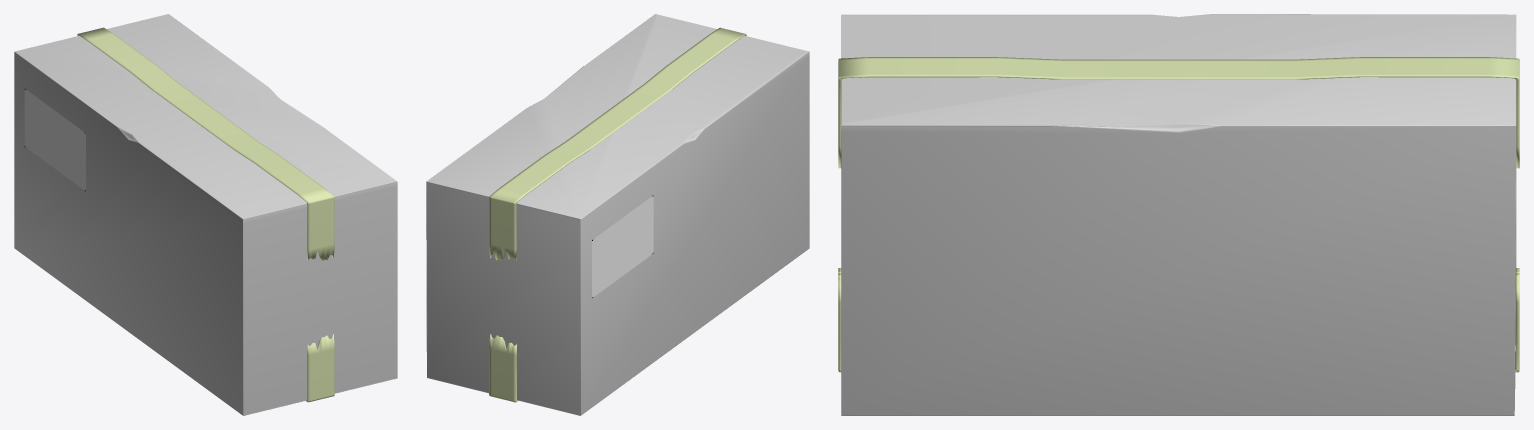
Rendered from dresser_tier1 (3).fbx.
3 views of the same model, side by side, from view 1: azimuth 30°, elevation 25°; view 2: azimuth 150°, elevation 25°; view 3: azimuth 270°, elevation 25° (orthographic). The views are drawn at different scales.
Parts seen in each view (by area): view 1: Cube.001, Plane; view 2: Cube.001, Plane; view 3: Cube.001.
Part boxes in pixels (x1=…): Cube.001: x1=14, y1=14, x2=397, y2=415; Plane: x1=24, y1=89, x2=85, y2=191; Cube.001: x1=426, y1=14, x2=809, y2=415; Plane: x1=592, y1=195, x2=653, y2=297; Cube.001: x1=838, y1=14, x2=1519, y2=415.
Size of the model in its own units: 84.45 by 105 by 218.
